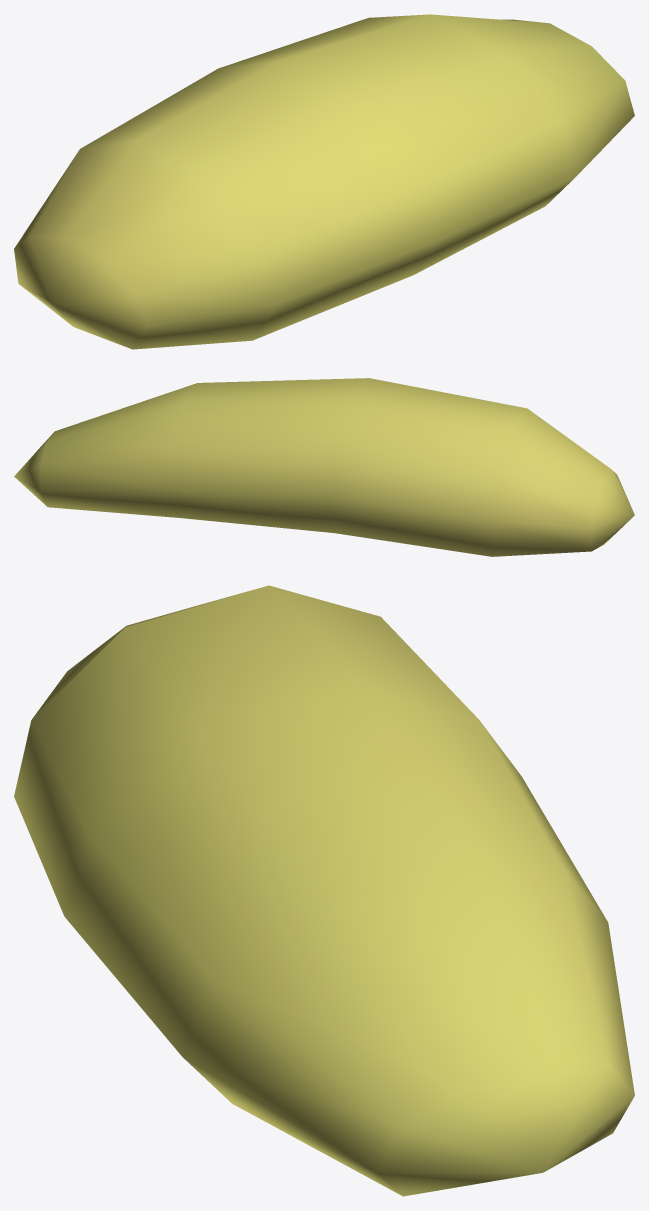
File: PC_Man_Eyebrow004_R.glb
The picture shows the model from 3 angles, top to bottom: view 1: azimuth 30°, elevation 25°; view 2: azimuth 150°, elevation 25°; view 3: azimuth 270°, elevation 25°; orthographic projection. The views are drawn at different scales.
Parts seen in each view (by area): view 1: PC_Man_Eyebrow004_R_mesh; view 2: PC_Man_Eyebrow004_R_mesh; view 3: PC_Man_Eyebrow004_R_mesh.
Boxes of the visible parts, x1,y1,x2,y2 form: PC_Man_Eyebrow004_R_mesh: [14, 14, 634, 349]; PC_Man_Eyebrow004_R_mesh: [14, 378, 634, 556]; PC_Man_Eyebrow004_R_mesh: [14, 585, 634, 1196].
Size of the model in its own units: 0.1487 by 0.0377 by 0.08.
1 material, 1 textured.
